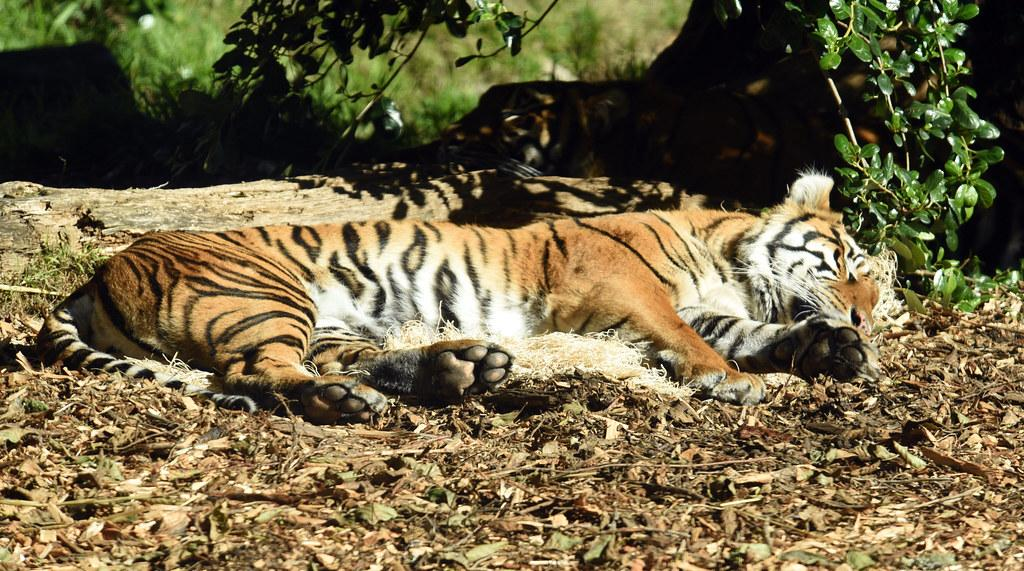tiger: (35, 166, 896, 426)
